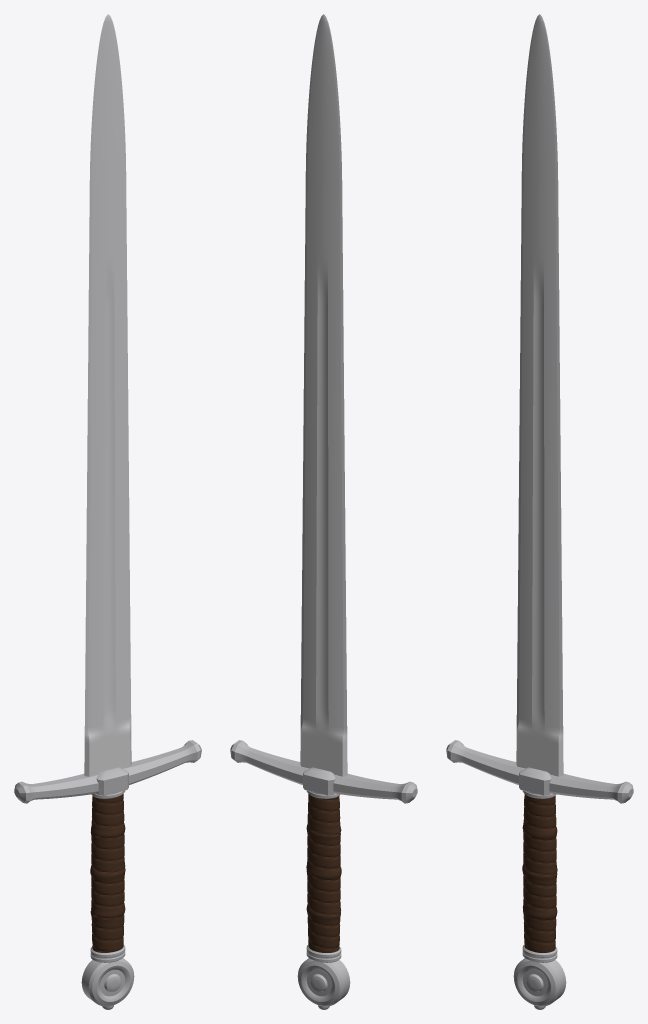
Rendered from SM_SteelSword.fbx.
The picture shows the model from 3 angles, left to right: view 1: azimuth 30°, elevation 25°; view 2: azimuth 150°, elevation 25°; view 3: azimuth 330°, elevation 25°; orthographic projection.
Visible parts, largest first — view 1: SM_SteelSword; view 2: SM_SteelSword; view 3: SM_SteelSword.
Boxes of the visible parts, x1,y1,x2,y2 form: SM_SteelSword: [14, 14, 201, 1009]; SM_SteelSword: [230, 14, 417, 1009]; SM_SteelSword: [446, 14, 633, 1009].
Size of what is drawn, in the model's own units: 0.2 by 1.04 by 0.0296.
